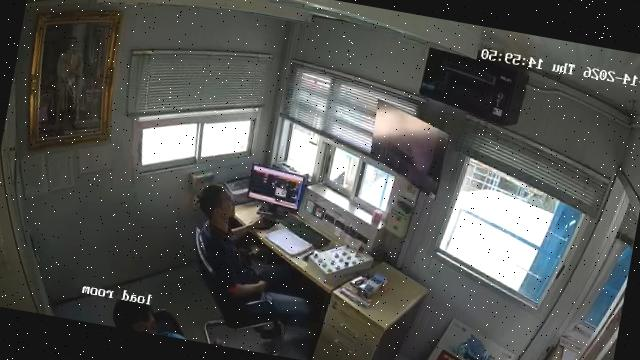Head: (192, 180, 244, 224), (111, 297, 162, 334)
People: (197, 185, 309, 318), (113, 300, 185, 338)
